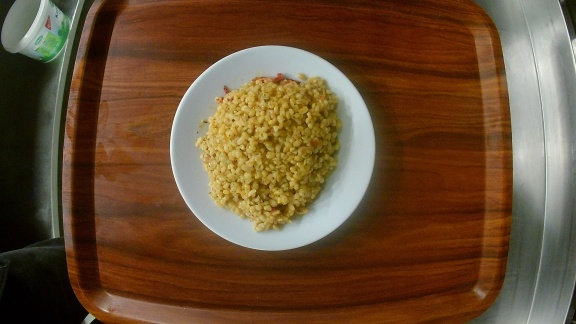bulgur: (171, 44, 376, 251)
